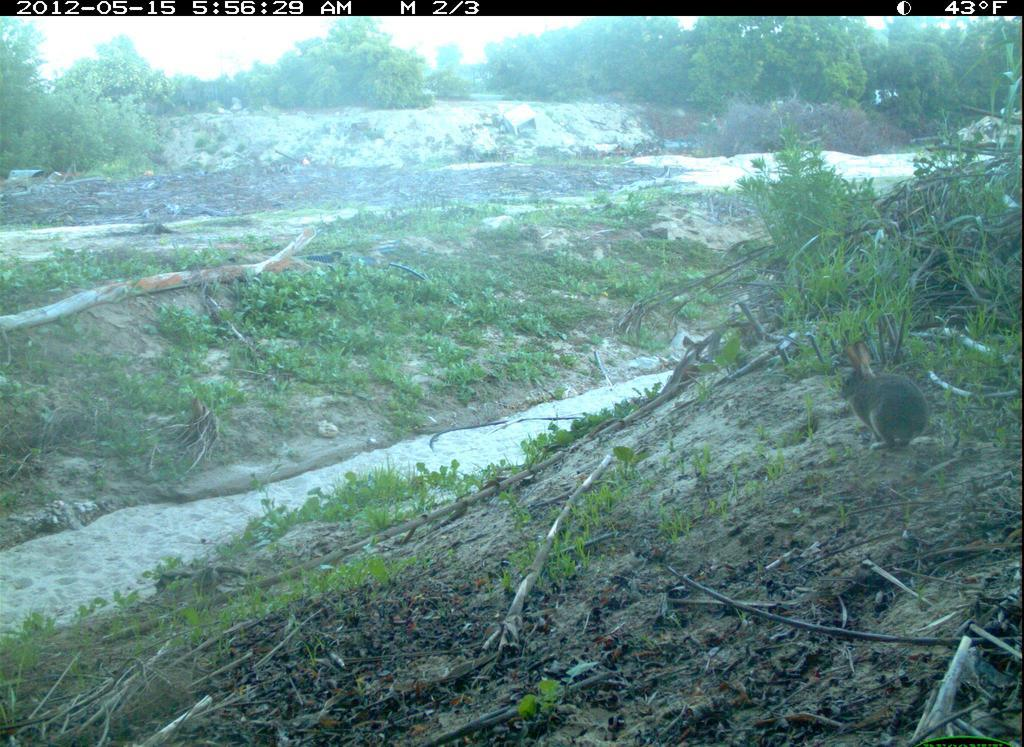rabbit: (836, 340, 934, 459)
